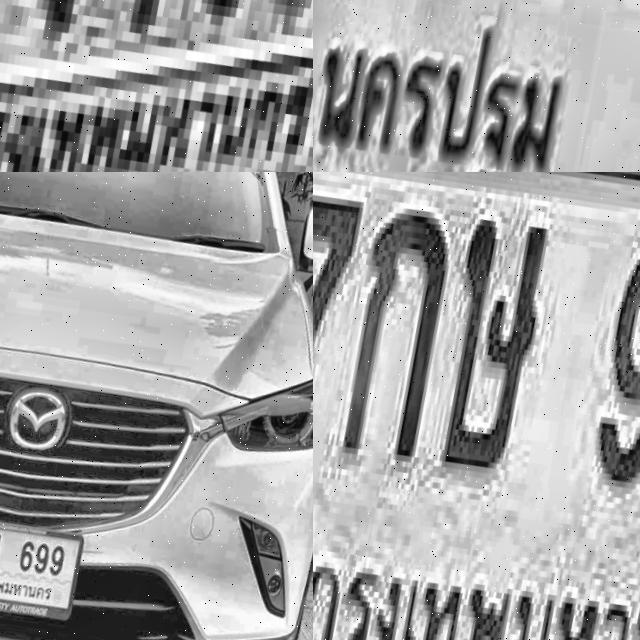license-plate: (313, 172, 640, 640), (313, 0, 640, 172), (0, 0, 313, 172), (0, 505, 85, 637)
